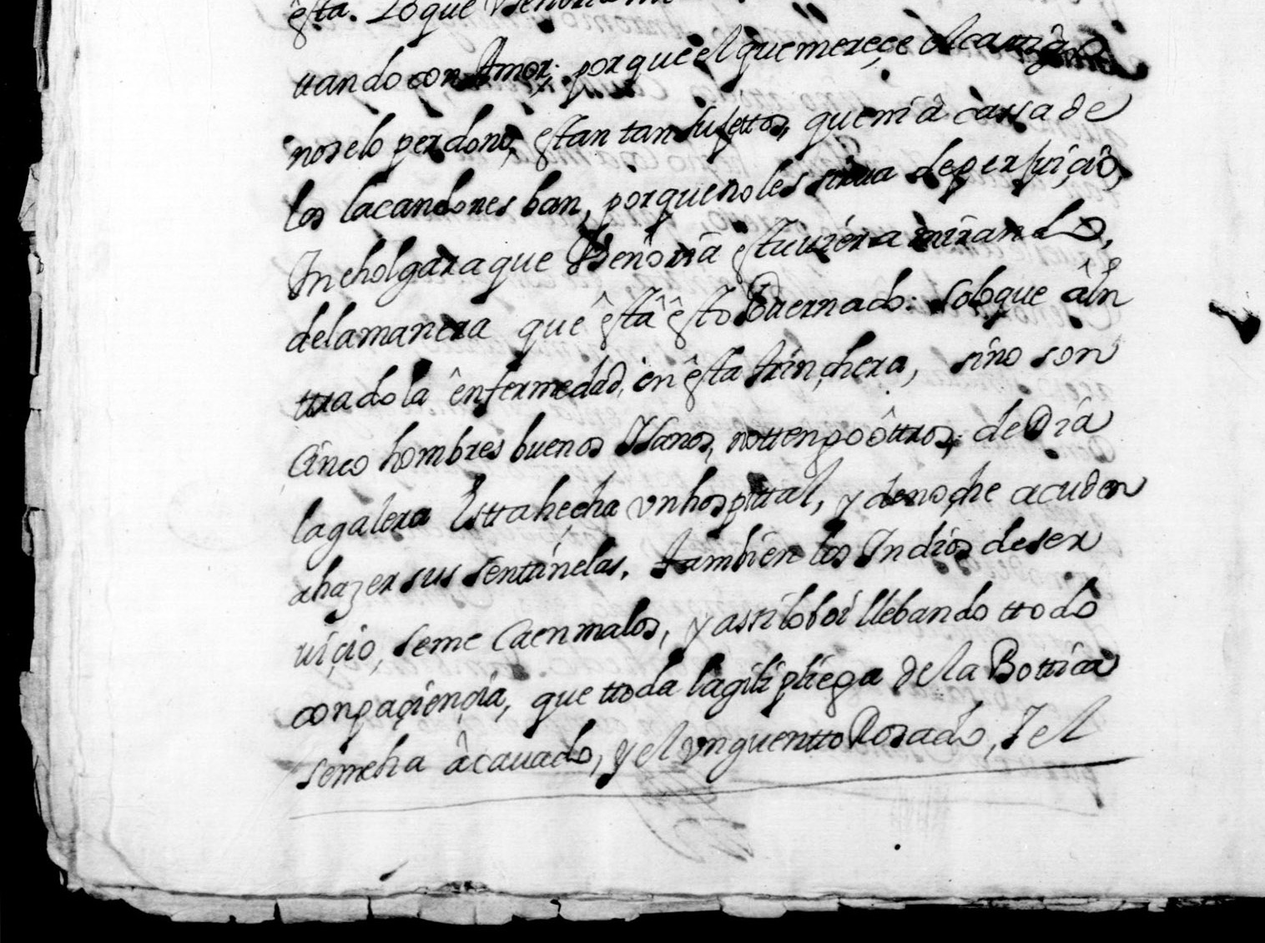lacandon: (340, 167, 517, 223)
